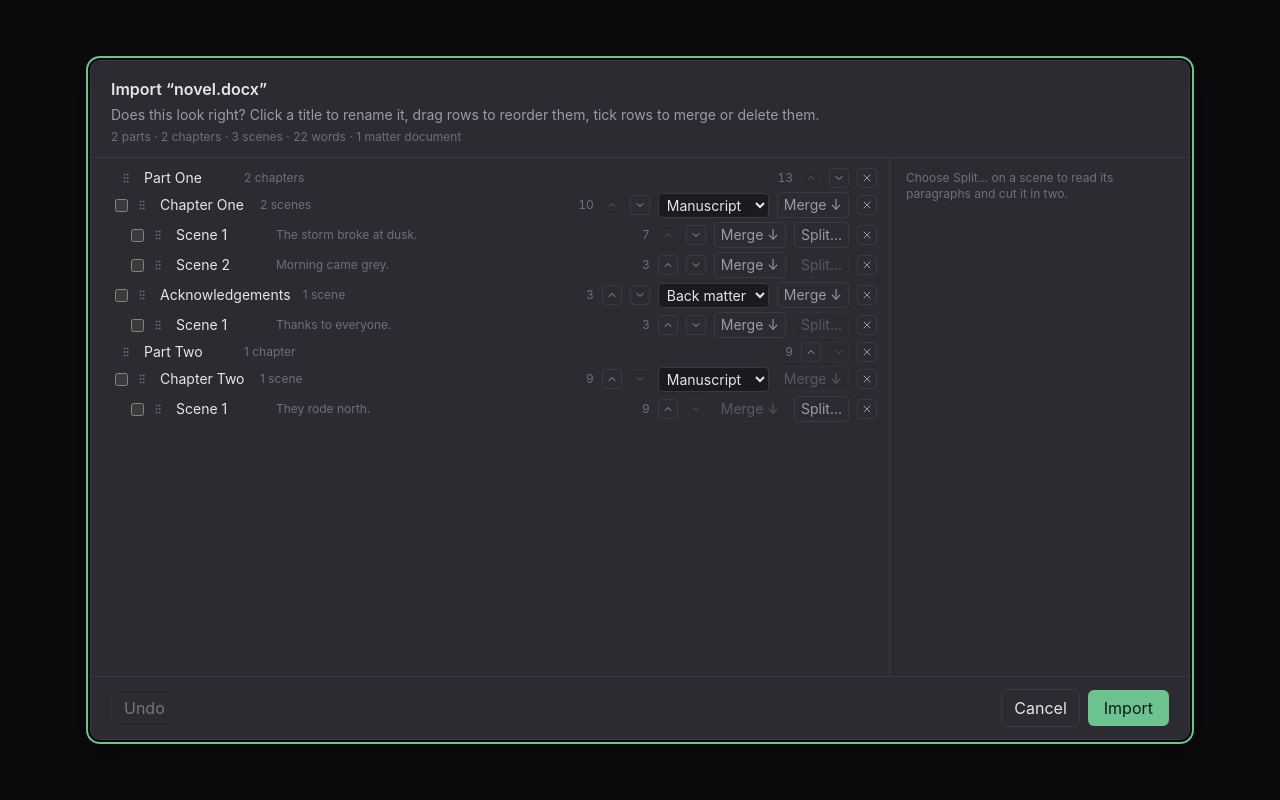
ImportDialog (F-12.2) › deletes the ticked rows together, and cannot merge a mix of chapters and scenes
The image size is (1280, 800).
Click the 4th checkbox with test id "import-select" at (122, 295), box x1=115 y1=288 x2=128 y2=302
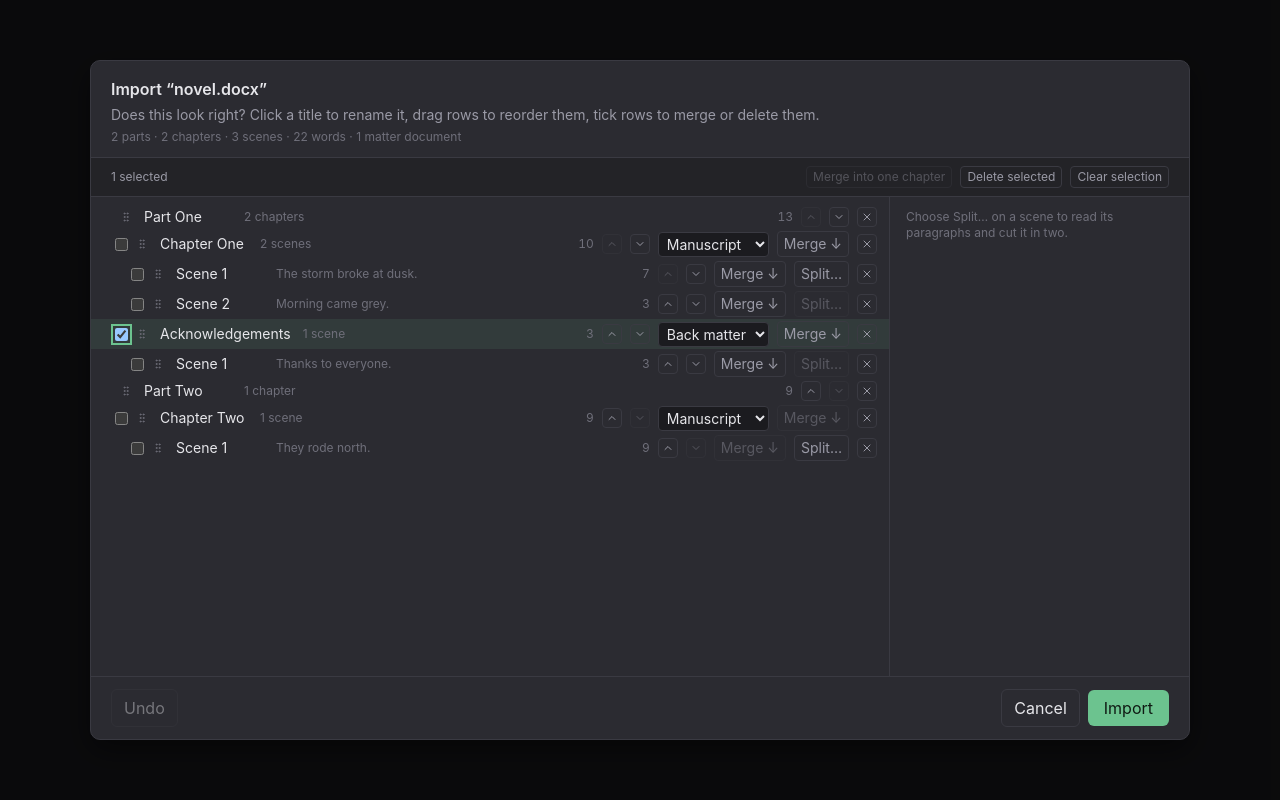
Click the checkbox with test id "import-select" in the row of "They rode north." at (138, 448), box x1=131 y1=442 x2=144 y2=454
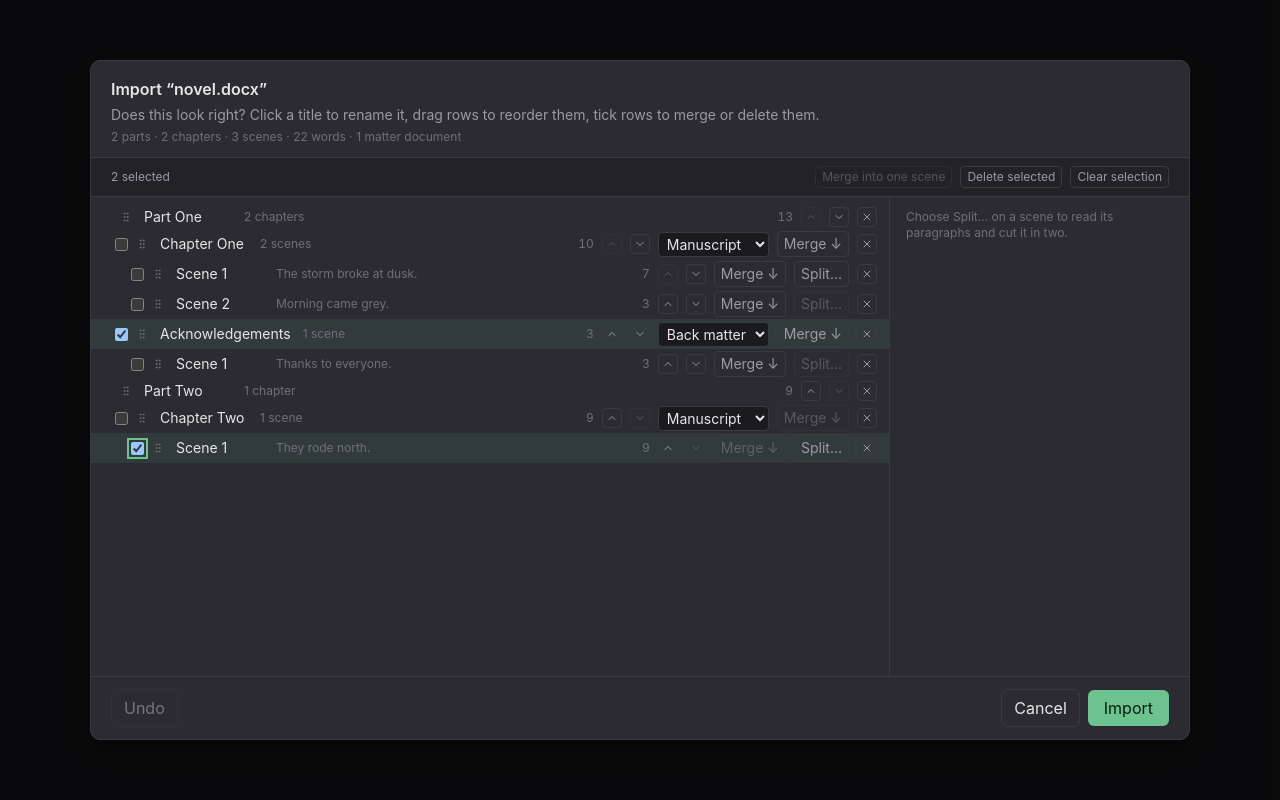
Now the button with test id "import-merge-selected" is disabled, box x1=815 y1=166 x2=952 y2=188
Click the button with test id "import-delete-selected" at (1011, 177), box x1=960 y1=166 x2=1062 y2=188
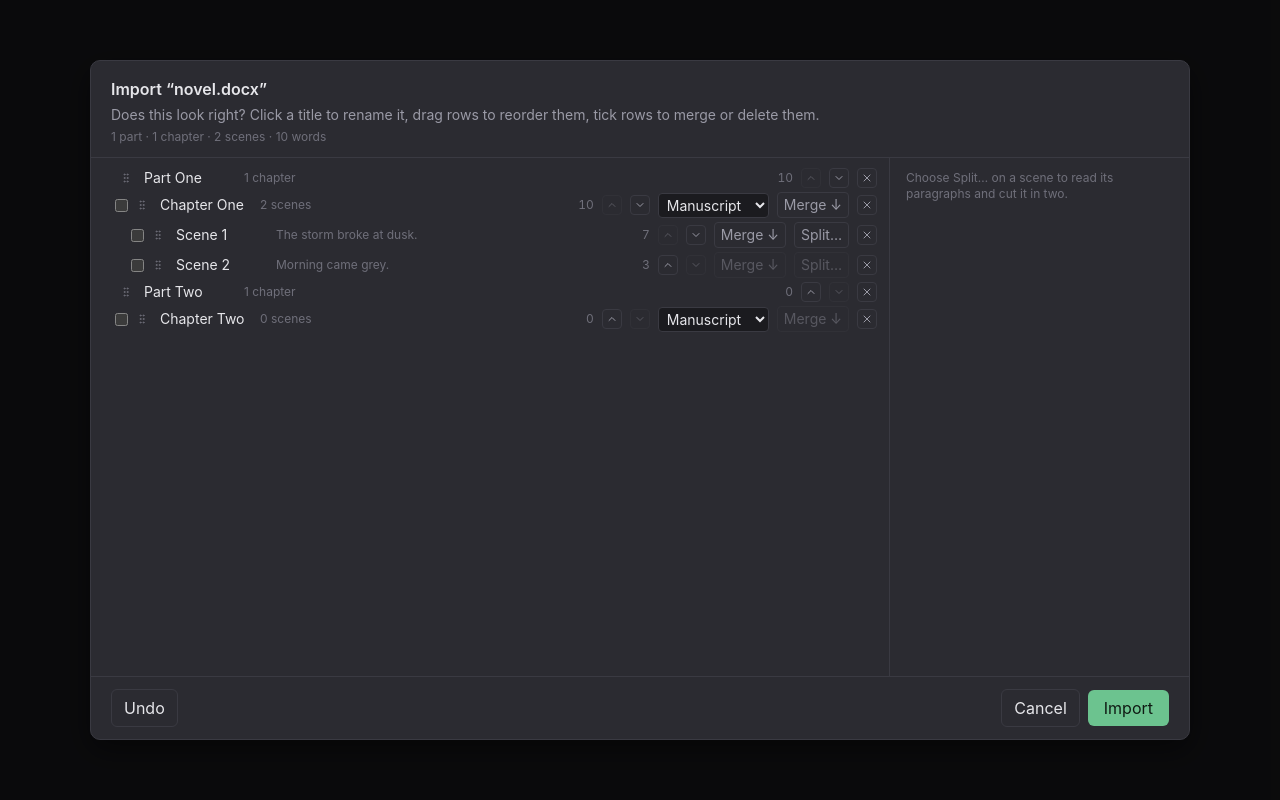
Now the text with test id "import-summary" shows "1 chapter · 2 scenes", box x1=111 y1=129 x2=326 y2=144
